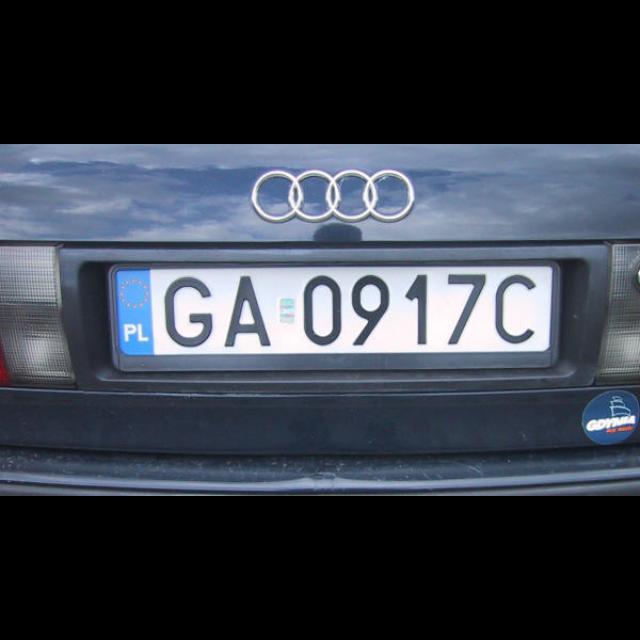pl_license_plate: (109, 266, 552, 352)
